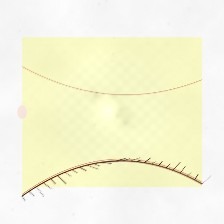pinguecula_lesion: (155, 103, 192, 133)
